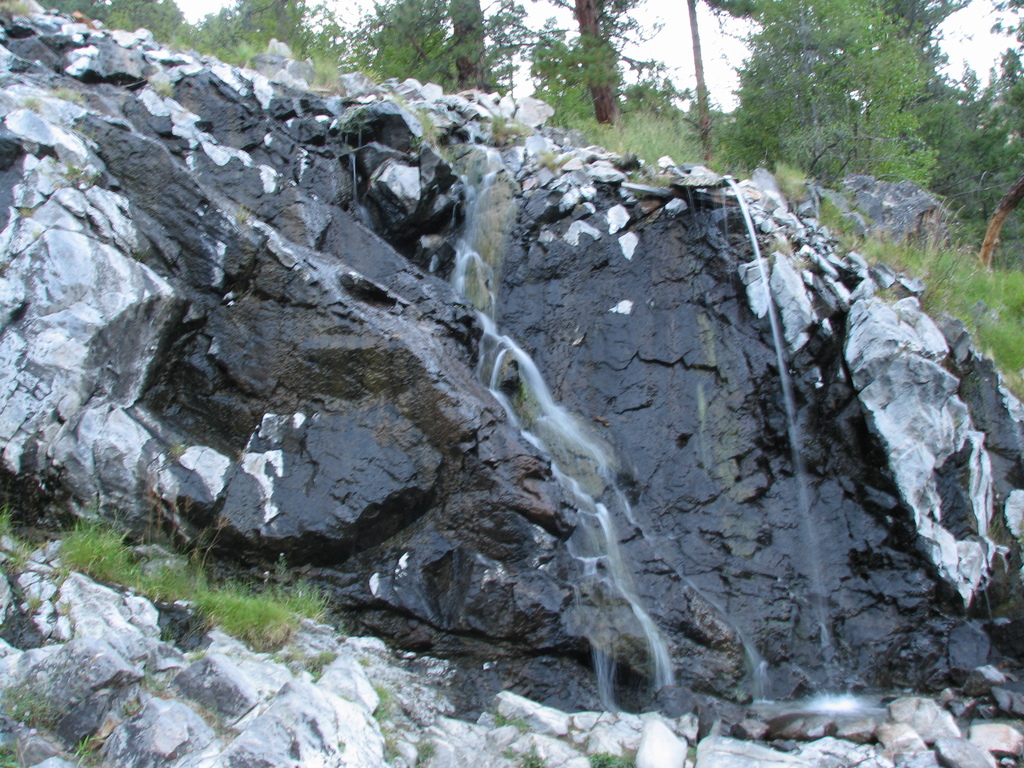Tree: (695, 0, 1024, 272), (36, 0, 538, 94), (519, 0, 692, 135)
